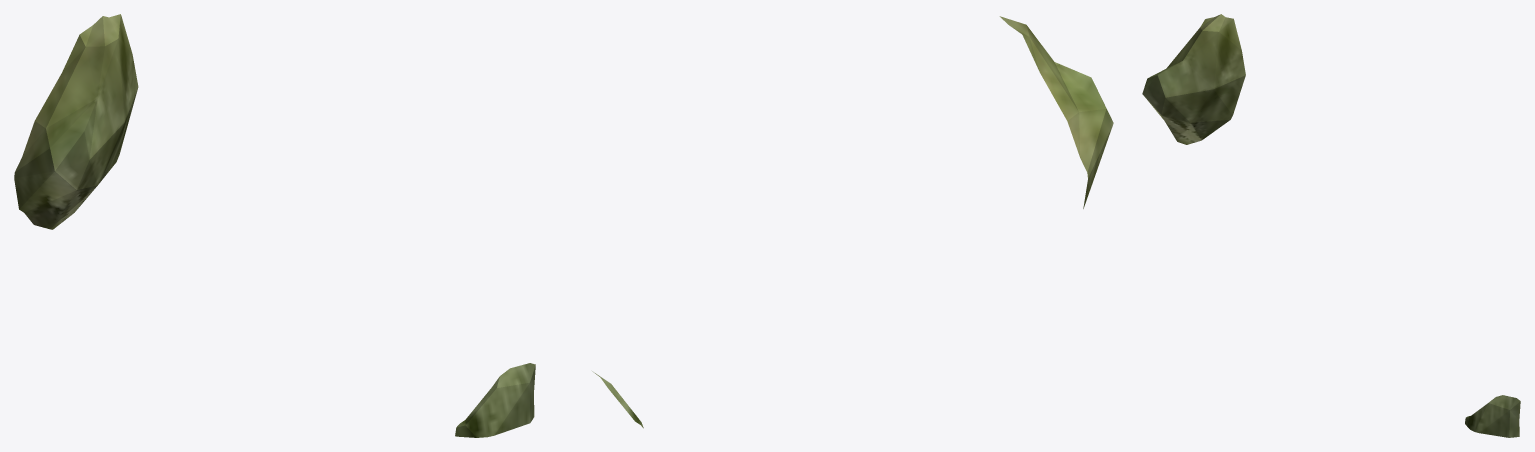
The picture shows the model from 3 angles, left to right: view 1: azimuth 30°, elevation 25°; view 2: azimuth 150°, elevation 25°; view 3: azimuth 330°, elevation 25°; orthographic projection. The views are drawn at different scales.
Size of the model in its own units: 1.78 by 1.65 by 0.2181.
Materials: 1 (1 with a texture image).
